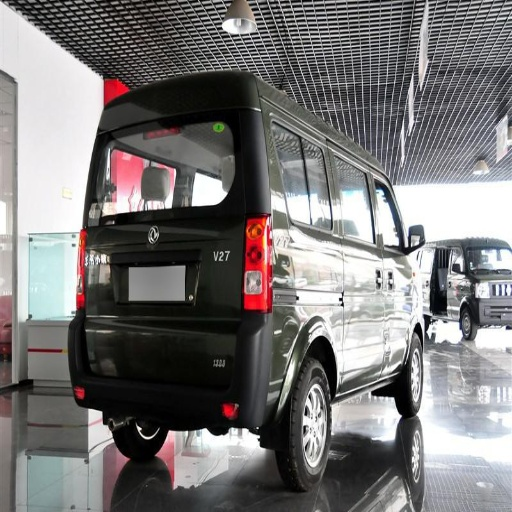back_bumper: (219, 313, 274, 393)
back_right_door: (284, 144, 379, 323)
trunk: (92, 202, 246, 375), (264, 301, 336, 396)
